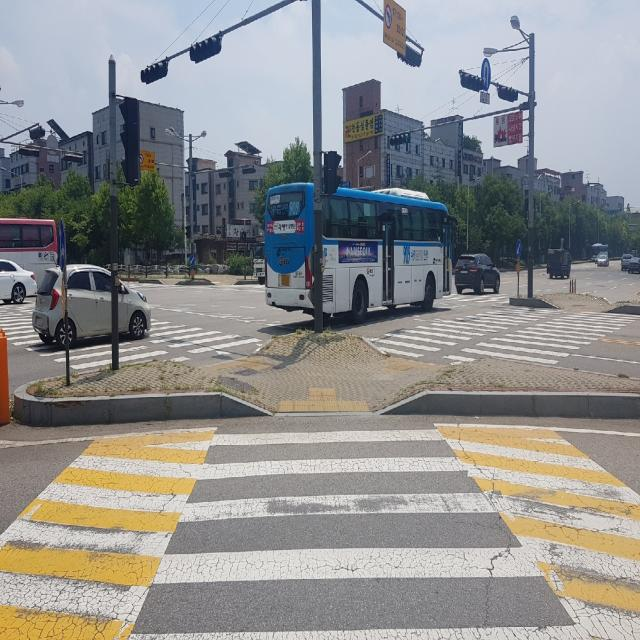횡단보도: (127, 426, 596, 639), (370, 300, 640, 373), (0, 309, 262, 376)
